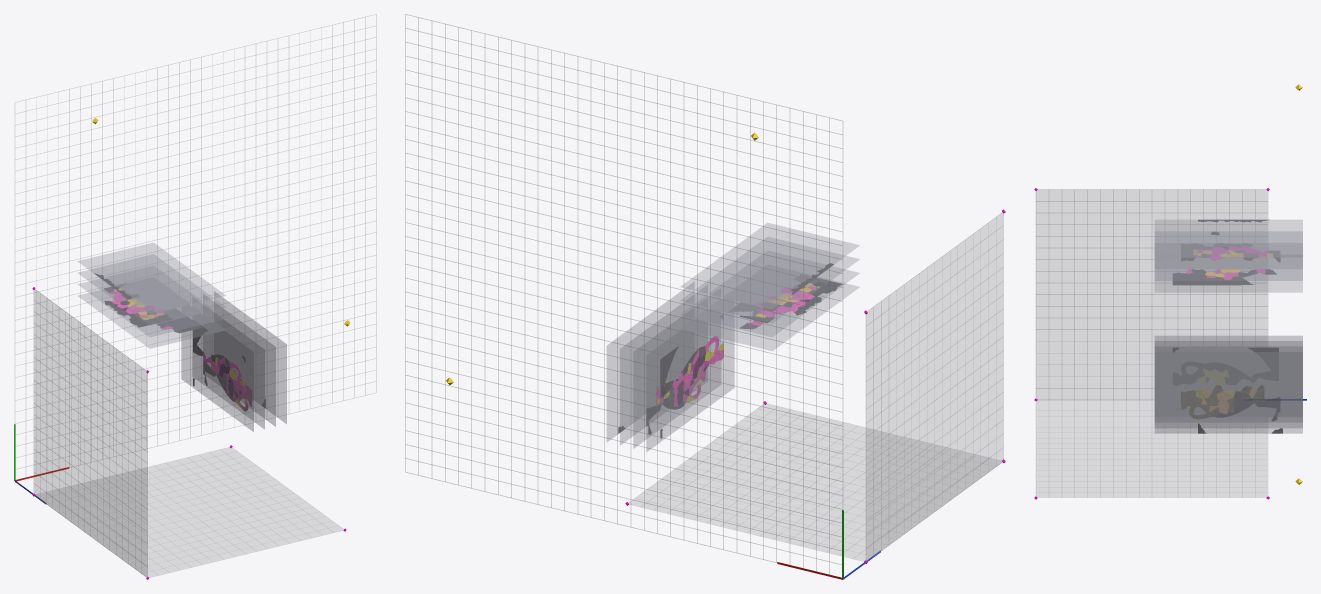
The model's file is shards.obj.
The picture shows the model from 3 angles, left to right: view 1: azimuth 30°, elevation 25°; view 2: azimuth 150°, elevation 25°; view 3: azimuth 270°, elevation 25°; orthographic projection. The views are drawn at different scales.
Visible parts, largest first — view 1: wall_A, wall_B, grid_floor, panel_B3, panel_B2, panel_A0, panel_A1, panel_A3, panel_A2, panel_B0, panel_B1, K (+4 smaller); view 2: wall_A, wall_B, grid_floor, panel_B3, panel_B2, panel_A0, panel_A1, panel_A3, panel_A2, panel_B0, panel_B1, grid_wallA (+4 smaller); view 3: wall_A, wall_B, panel_A2, panel_A3, panel_B2, panel_B3, K, grid_wallA, panel_B1, panel_B0, panel_A0, panel_A1 (+3 smaller).
Part boxes in pixels (<box>): wall_A: <box>34,290,147,576</box>; wall_B: <box>36,447,343,577</box>; grid_floor: <box>15,14,376,469</box>; panel_B3: <box>77,243,225,313</box>; panel_B2: <box>78,254,225,325</box>; panel_A0: <box>181,322,253,431</box>; panel_A1: <box>192,311,264,429</box>; panel_A3: <box>214,291,286,423</box>; panel_A2: <box>203,299,275,426</box>; panel_B0: <box>78,290,225,348</box>; panel_B1: <box>78,279,225,336</box>; K: <box>94,273,265,407</box>; wall_A: <box>866,213,1003,560</box>; wall_B: <box>629,404,1001,560</box>; grid_floor: <box>405,14,842,574</box>; panel_B3: <box>680,223,859,309</box>; panel_B2: <box>680,237,859,323</box>; panel_A0: <box>646,319,734,451</box>; panel_A1: <box>633,305,720,448</box>; panel_A3: <box>607,282,694,441</box>; panel_A2: <box>620,292,707,445</box>; panel_B0: <box>680,280,859,350</box>; panel_B1: <box>680,266,859,336</box>; grid_wallA: <box>866,212,1003,560</box>; wall_A: <box>1036,190,1267,399</box>; wall_B: <box>1036,400,1267,497</box>; panel_A2: <box>1155,346,1302,427</box>; panel_A3: <box>1155,352,1302,433</box>; panel_B2: <box>1155,231,1302,268</box>; panel_B3: <box>1155,220,1302,257</box>; K: <box>1172,219,1282,433</box>; grid_wallA: <box>1036,189,1267,399</box>; panel_B1: <box>1155,257,1302,280</box>; panel_B0: <box>1155,269,1302,292</box>; panel_A0: <box>1155,336,1302,346</box>; panel_A1: <box>1155,341,1302,351</box>.
Bounding box in the file's own units: 3318 × 3318 × 2115.
